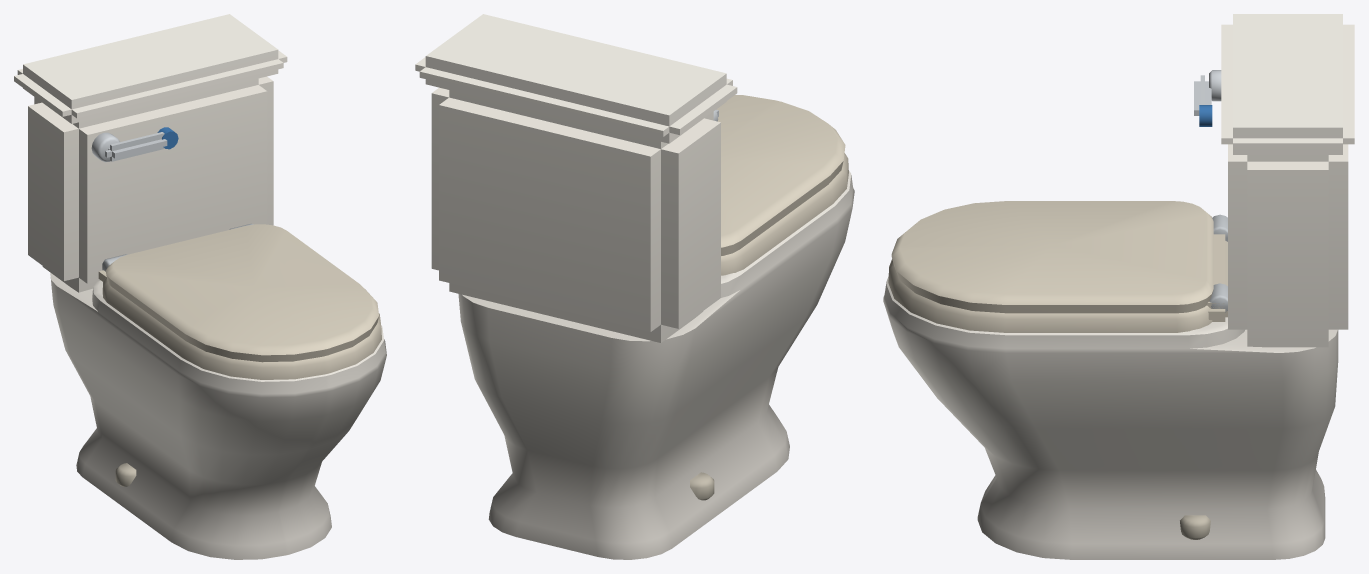
File: Toilet_01.glb
3 views of the same model, side by side, from view 1: azimuth 30°, elevation 25°; view 2: azimuth 150°, elevation 25°; view 3: azimuth 270°, elevation 25° (orthographic). The views are drawn at different scales.
Parts seen in each view (by area): view 1: SM_Toilet_01; view 2: SM_Toilet_01; view 3: SM_Toilet_01.
Part boxes in pixels (x1,y1,x2,y2): SM_Toilet_01: [14, 14, 386, 559]; SM_Toilet_01: [415, 14, 854, 559]; SM_Toilet_01: [883, 14, 1354, 559].
Bounding box in the file's own units: 0.45 × 0.76 × 0.725.
1 material, 1 textured.
